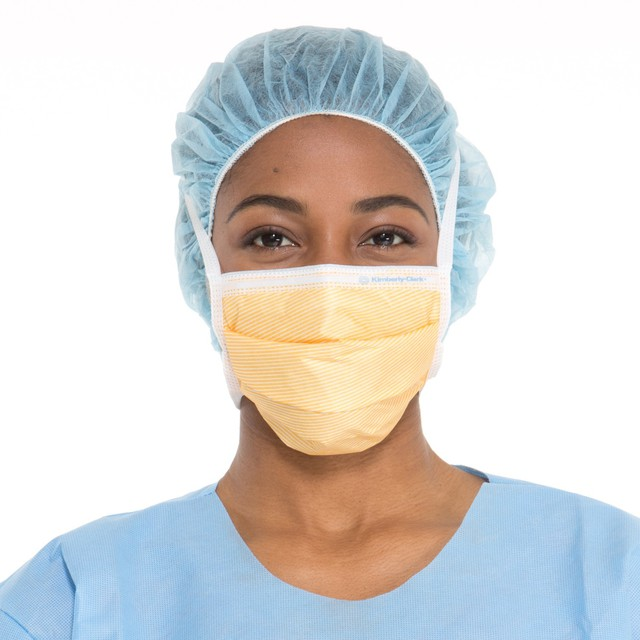mask: (201, 266, 452, 456)
